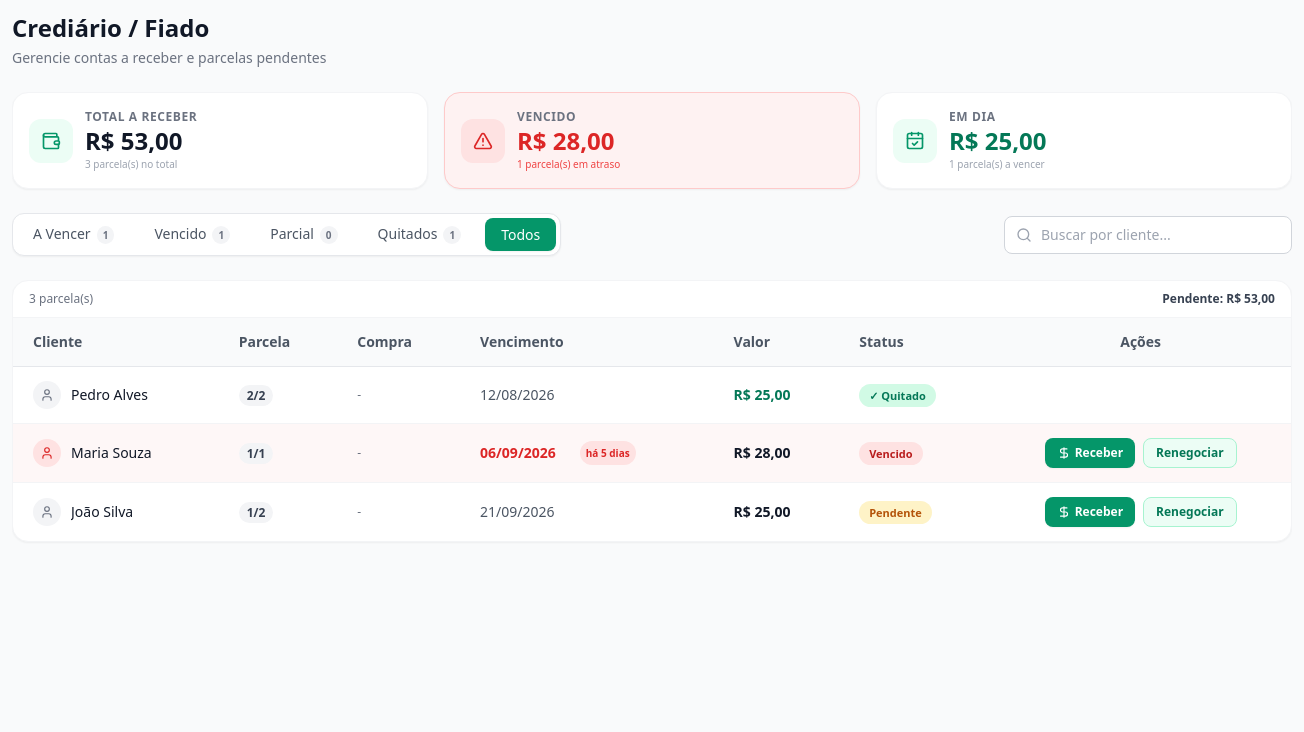
Test: FiadoPage › shows empty state when no results
The width and height of the screenshot is (1304, 732).
Click the button "Parcial0" at (304, 234), box left=254, top=218, right=354, bottom=251
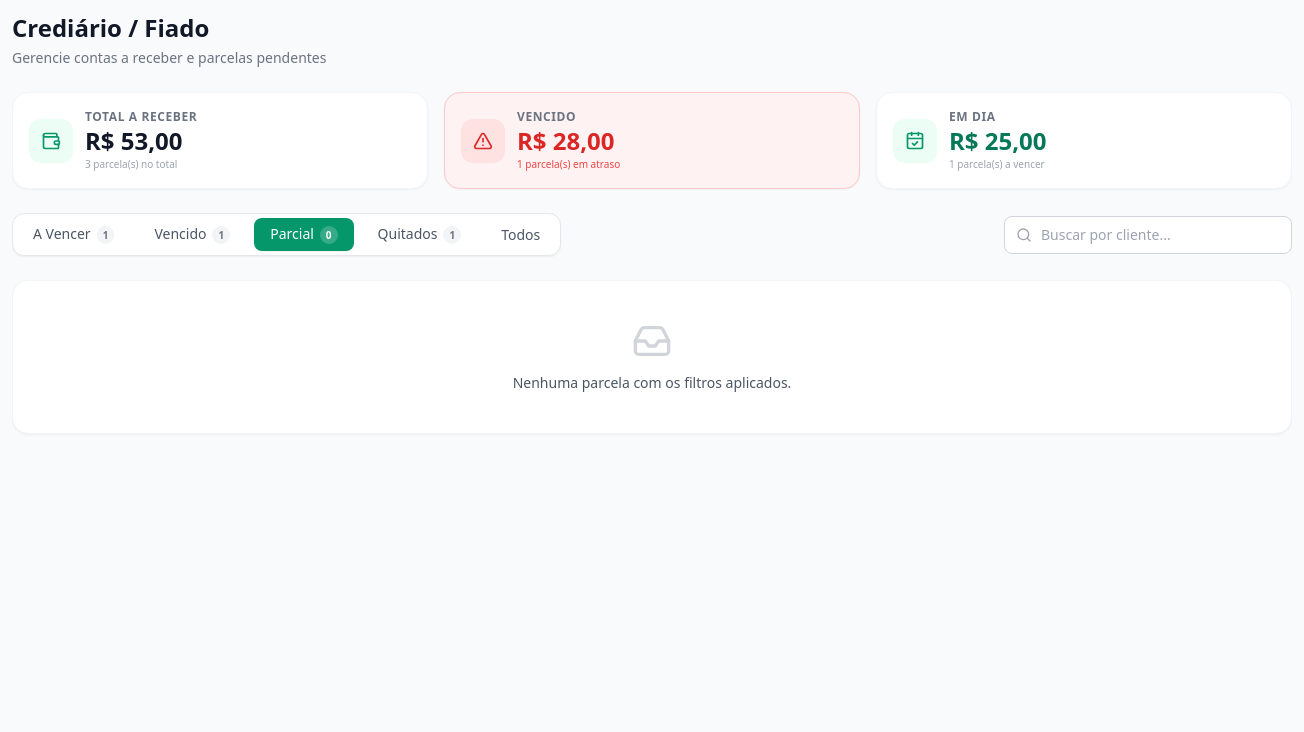
Expected: the text "Nenhuma parcela com os filtros aplicados." is shown, left=513, top=373, right=791, bottom=392
